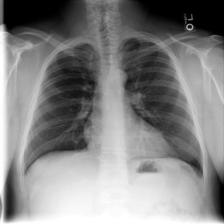normal: (17, 34, 208, 183)
